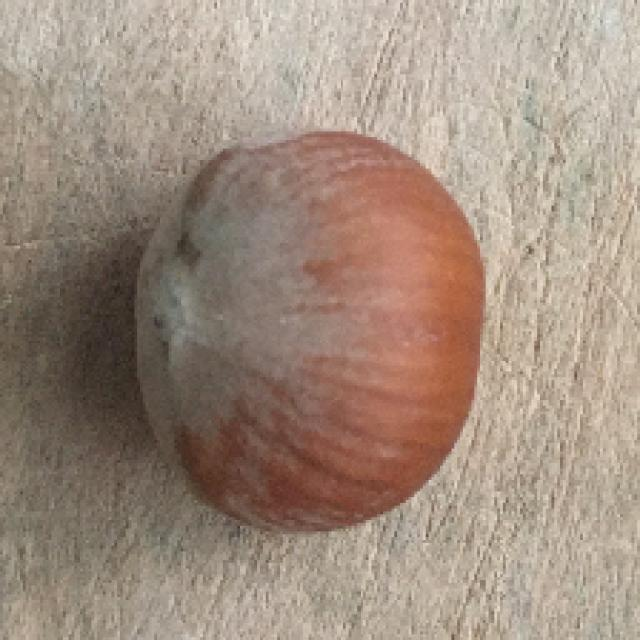QualityHazelnut: (135, 123, 480, 536)
